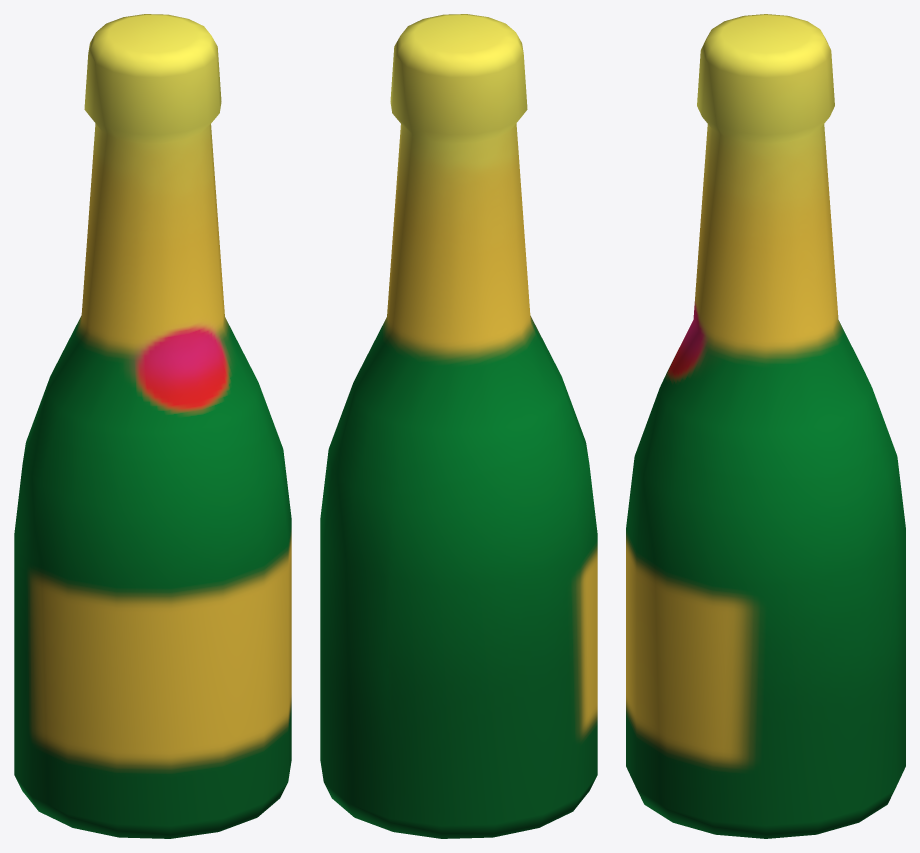
The model's file is champagne.fbx.
3 renders of one model, left to right at view 1: azimuth 30°, elevation 25°; view 2: azimuth 150°, elevation 25°; view 3: azimuth 270°, elevation 25°, orthographic.
Visible parts, largest first — view 1: champagne; view 2: champagne; view 3: champagne.
Boxes of the visible parts, <box> form: champagne: <box>14,14,291,838</box>; champagne: <box>320,14,597,838</box>; champagne: <box>626,14,905,838</box>.
Size of the model in its own units: 8.28 by 24.7 by 8.28.
